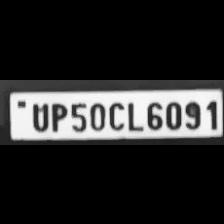0: (86, 98, 106, 130), (162, 97, 182, 128)
1: (202, 98, 220, 130)
5: (66, 99, 88, 131)
6: (142, 98, 162, 130)
9: (181, 97, 201, 128)
C: (106, 98, 124, 130)
L: (124, 98, 142, 130)
P: (47, 100, 66, 132)
U: (27, 99, 49, 131)
